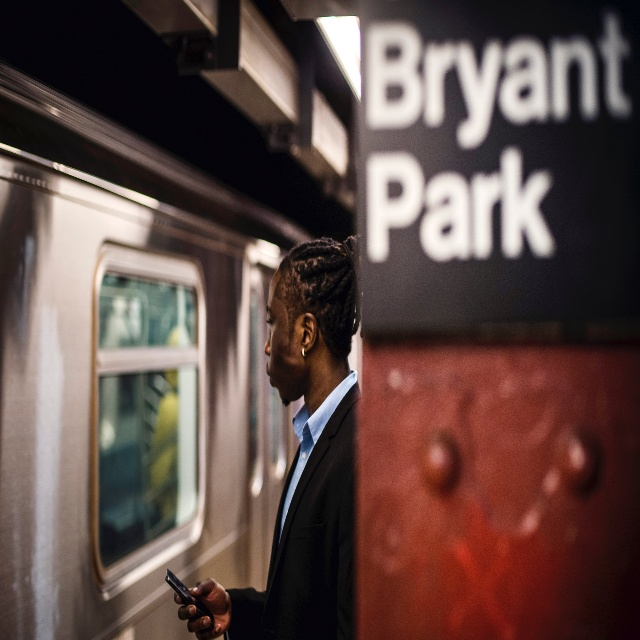Sin_guantes: (174, 576, 230, 640)
